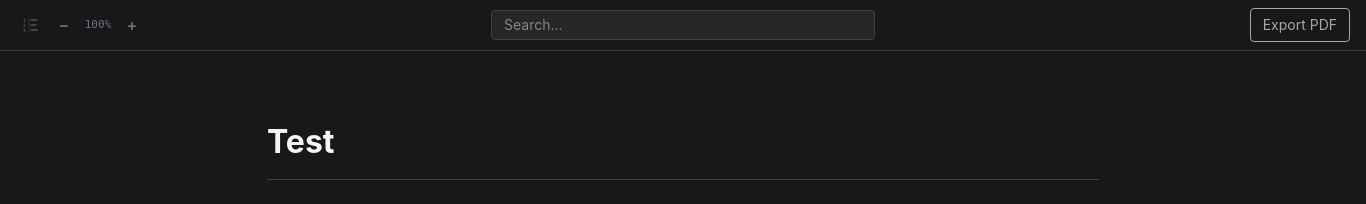
Scenario: MarkdownViewer › zoom in increases percentage
Expected: the button "100%" is shown, [76,13,120,37]
Click the button "+". click: [132, 25]
box: [120,13,144,37]
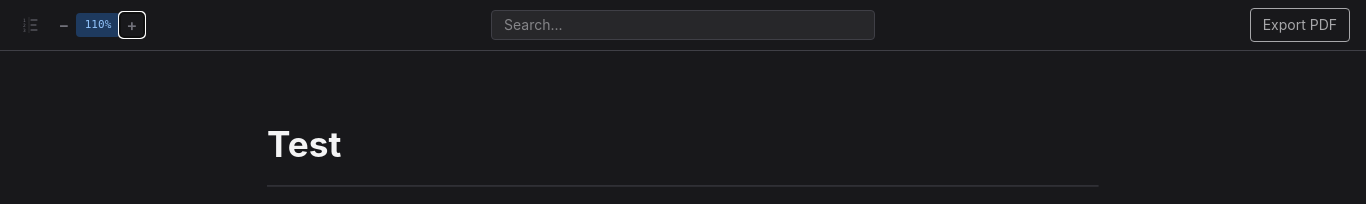
Result: the button "110%" is shown at [76,13,120,37]
